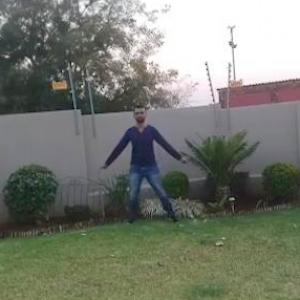land: (101, 100, 197, 228)
